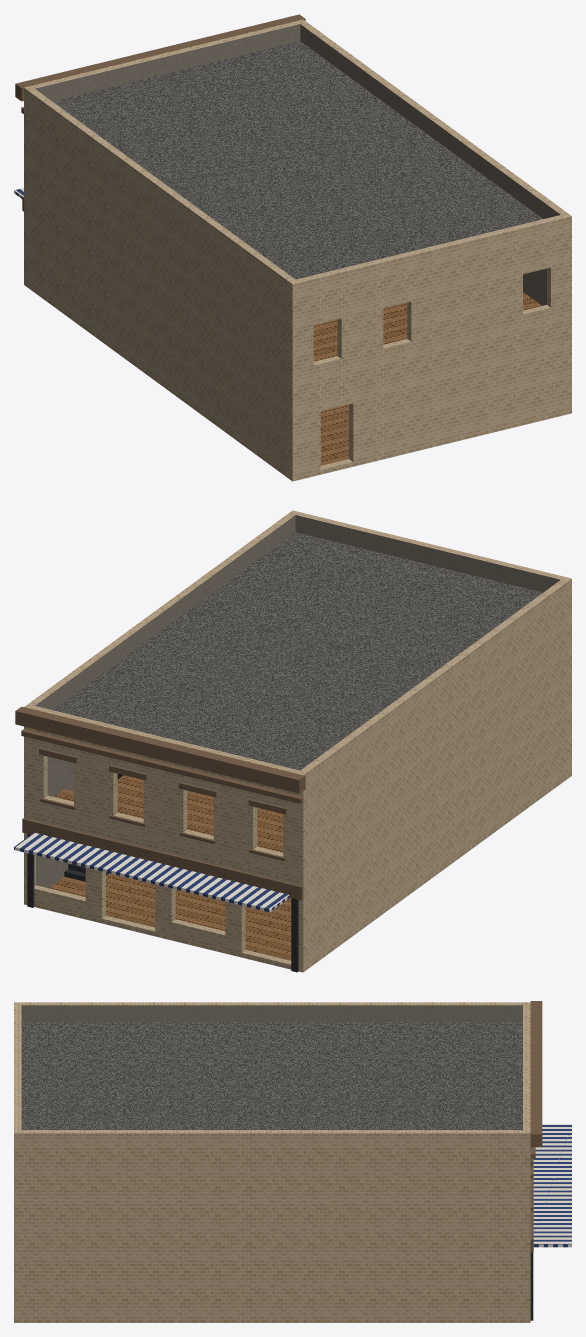
Rendered from main_street_tan_12m_2st.glb.
The picture shows the model from 3 angles, top to bottom: view 1: azimuth 30°, elevation 25°; view 2: azimuth 150°, elevation 25°; view 3: azimuth 270°, elevation 25°; orthographic projection. The views are drawn at different scales.
Visible parts, largest first — view 1: main_street_tan_12m_2st; view 2: main_street_tan_12m_2st; view 3: main_street_tan_12m_2st.
Part boxes in pixels (x1=…): main_street_tan_12m_2st: x1=14, y1=14, x2=571, y2=481; main_street_tan_12m_2st: x1=14, y1=510, x2=571, y2=972; main_street_tan_12m_2st: x1=14, y1=1001, x2=571, y2=1322.
Size of the model in its own units: 12.2 by 8.1 by 21.6.
Materials: 7 (7 with a texture image).
